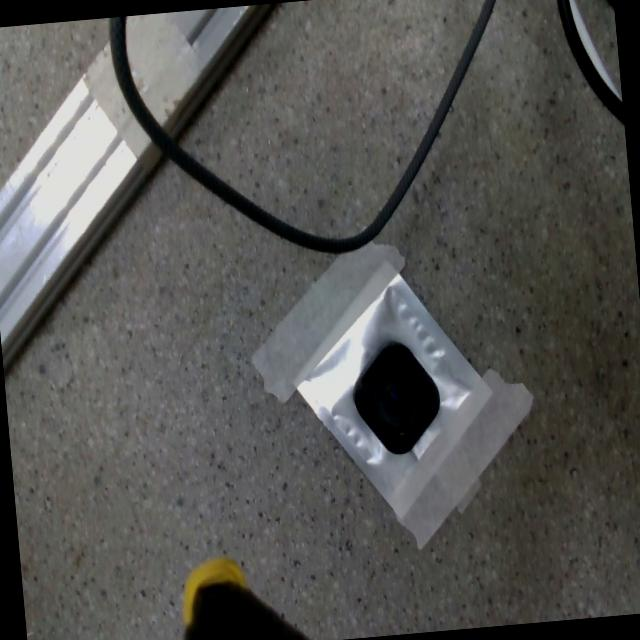cell: (349, 337, 446, 457)
